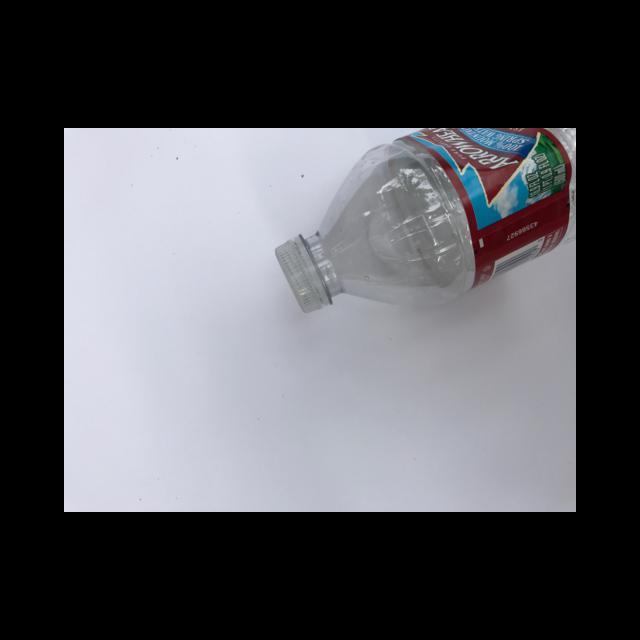plastic: (273, 128, 575, 312), (387, 128, 572, 309), (272, 232, 331, 313)
